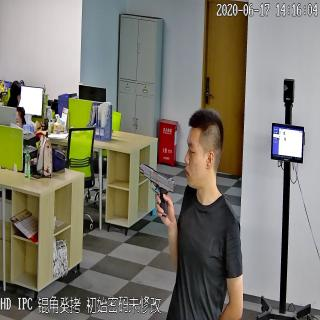gun: (140, 160, 174, 223)
